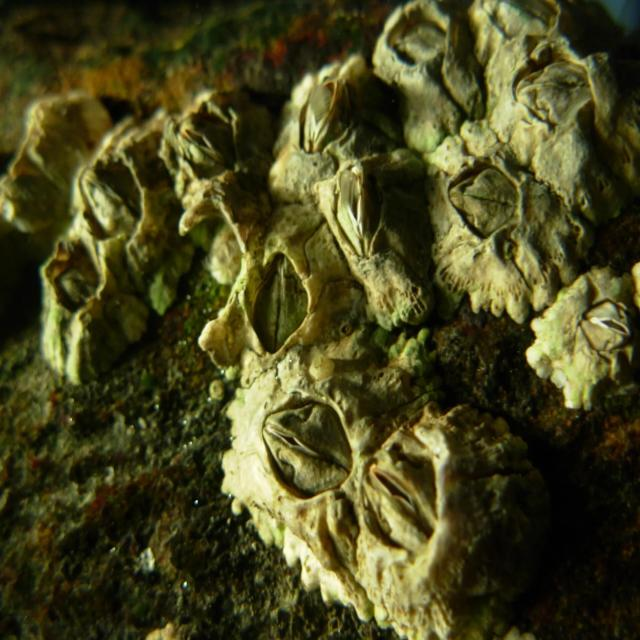barnacles: (357, 396, 549, 634), (218, 368, 362, 567), (498, 58, 637, 201), (209, 220, 338, 368), (432, 141, 535, 312), (62, 119, 164, 285), (31, 243, 144, 389), (326, 153, 430, 309), (535, 273, 640, 423), (372, 3, 487, 130), (164, 74, 266, 217), (267, 54, 378, 160)
